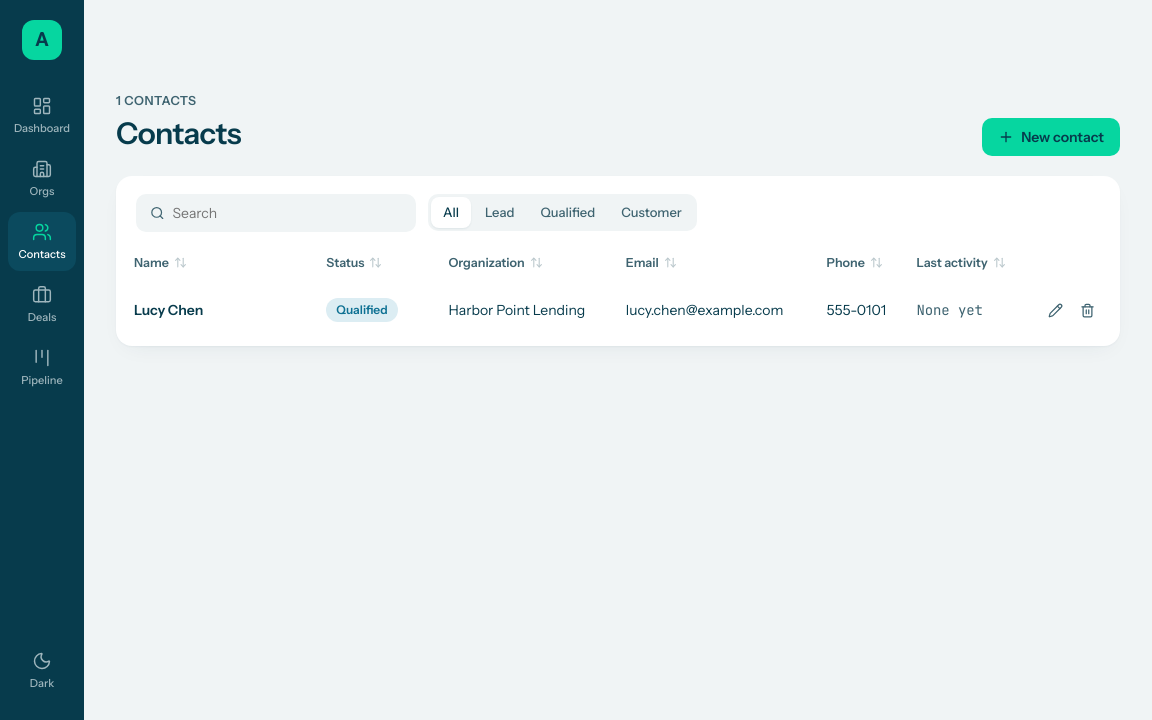
Test: the contacts list › lets you retry when the delete counts can't be loaded
Step 1. Click the button named "Delete Lucy Chen" → click(1087, 310), box [1072, 295, 1102, 325]
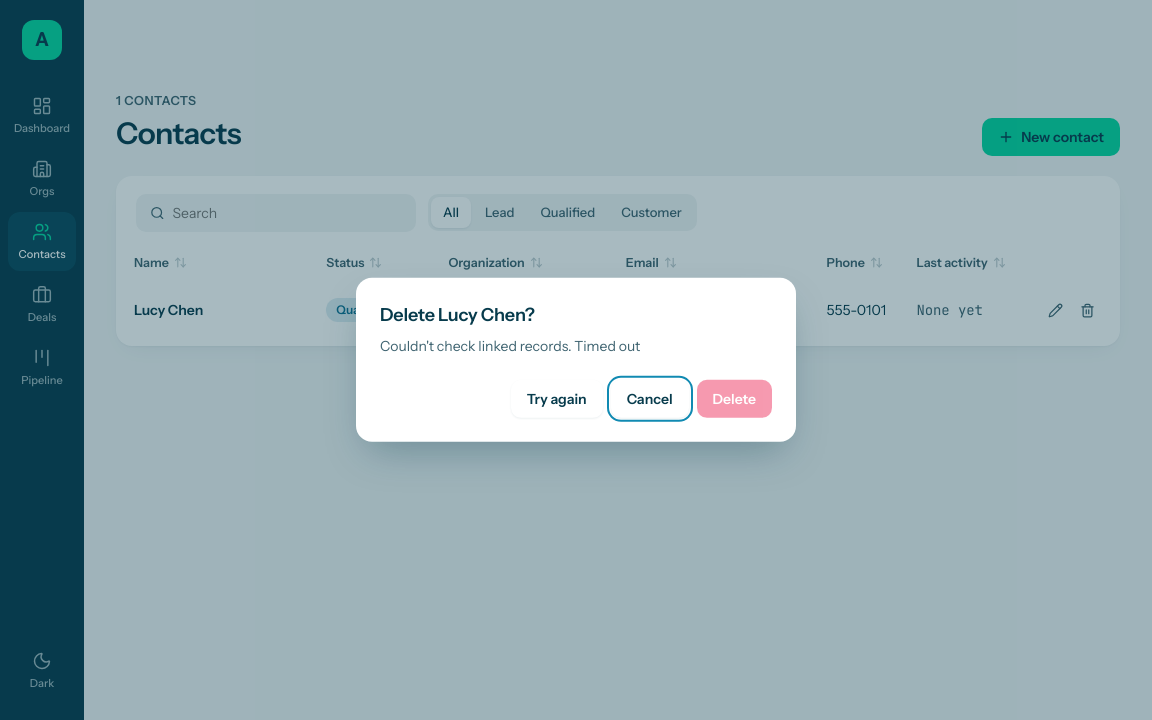
Expected: the text "Couldn't check linked records. Timed out" is shown, [380, 337, 640, 355]
Step 2. Click the button "Try again" → click(557, 399), box [511, 380, 603, 418]
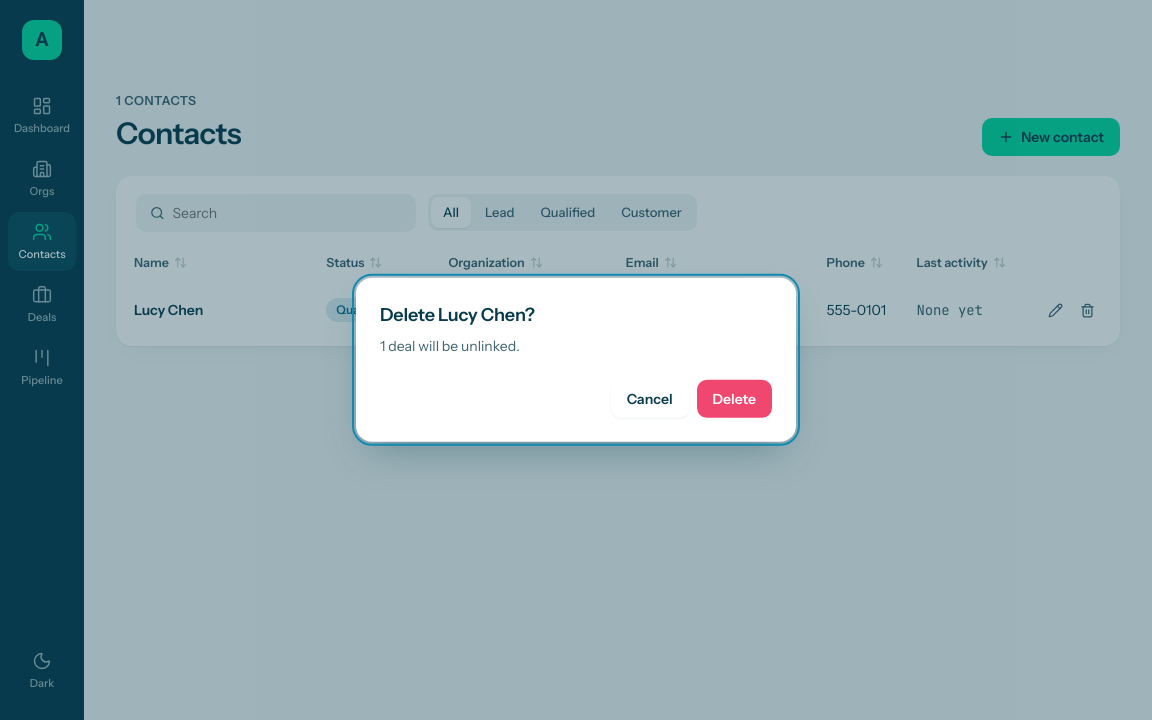
Expected: the text "1 deal will be unlinked." is shown, [380, 337, 520, 355]
Step 3. Click the button "Cancel" → click(650, 399), box [611, 380, 688, 418]
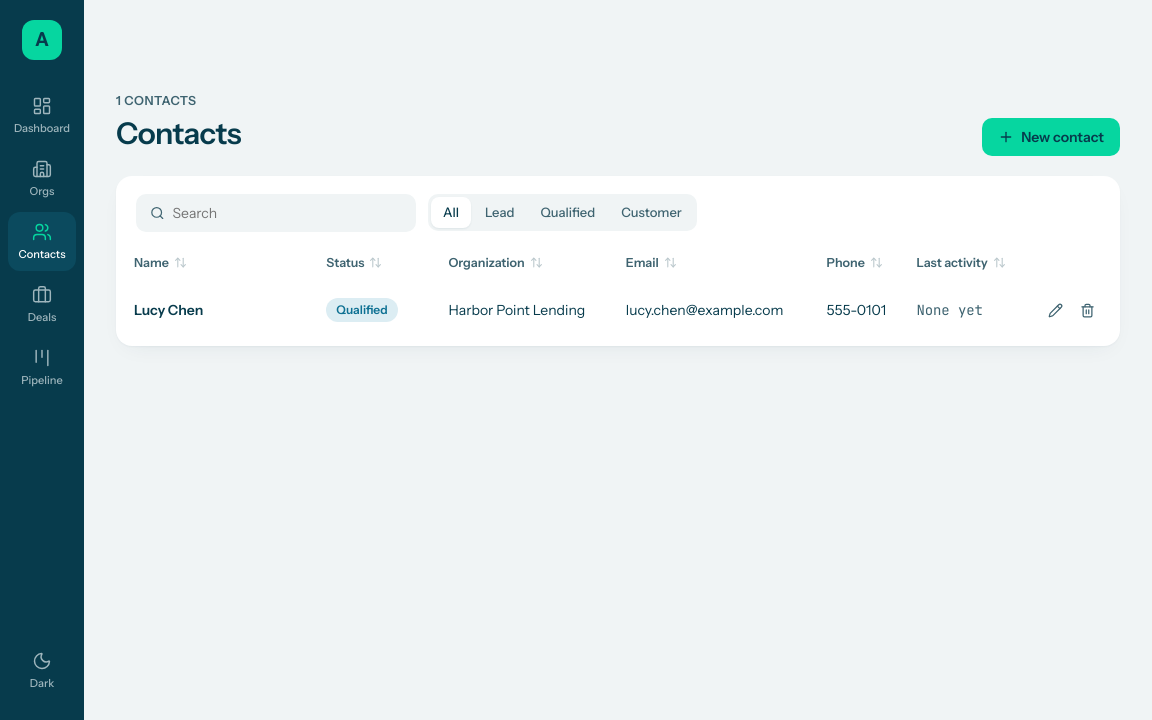
Expected: the dialog is gone
